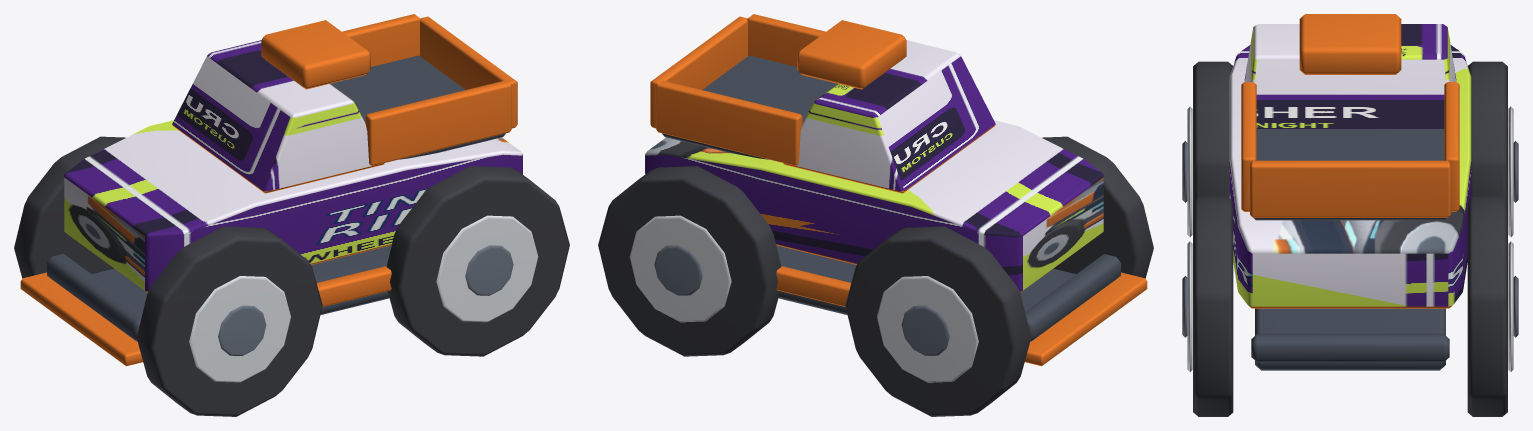
3 views of the same model, side by side, from view 1: azimuth 30°, elevation 25°; view 2: azimuth 150°, elevation 25°; view 3: azimuth 270°, elevation 25° (orthographic). The views are drawn at different scales.
Visible parts, largest first — view 1: BW-01_connected_shell, BW-01_cabin, Tire, Tire.002, cargo side, Rim.002, Rim, Tire.001, custom equipment, cargo floor, custom chin, cargo tail (+6 smaller); view 2: BW-01_connected_shell, BW-01_cabin, Tire.001, Tire.003, cargo side.001, Rim.003, Rim.001, Tire, custom equipment, cargo floor, custom chin, cargo tail (+6 smaller); view 3: BW-01_connected_shell, BW-01_cabin, cargo tail, Tire.002, Tire.003, underbody, cargo floor, custom equipment, rear bumper, Tire, Tire.001, cargo side (+9 smaller).
Part boxes in pixels (x1,y1,x2,y2): BW-01_connected_shell: [64, 120, 522, 292]; BW-01_cabin: [172, 40, 384, 193]; Tire: [136, 226, 322, 416]; Tire.002: [386, 166, 569, 356]; cargo side: [365, 80, 511, 165]; Rim.002: [436, 215, 538, 322]; Rim: [189, 276, 290, 382]; Tire.001: [14, 136, 125, 278]; custom equipment: [261, 20, 370, 89]; cargo floor: [330, 55, 505, 159]; custom chin: [20, 272, 142, 366]; cargo tail: [420, 16, 517, 128]; BW-01_connected_shell: [645, 120, 1103, 292]; BW-01_cabin: [783, 40, 995, 193]; Tire.001: [845, 226, 1031, 416]; Tire.003: [598, 166, 781, 356]; cargo side.001: [656, 80, 802, 165]; Rim.003: [629, 215, 731, 322]; Rim.001: [877, 276, 978, 382]; Tire: [1042, 136, 1153, 278]; custom equipment: [797, 20, 906, 89]; cargo floor: [662, 55, 837, 159]; custom chin: [1025, 272, 1147, 366]; cargo tail: [650, 16, 747, 128]; BW-01_connected_shell: [1229, 45, 1471, 308]; BW-01_cabin: [1244, 24, 1456, 128]; cargo tail: [1250, 160, 1450, 217]; Tire.002: [1193, 196, 1233, 416]; Tire.003: [1467, 196, 1507, 416]; underbody: [1255, 308, 1445, 370]; cargo floor: [1254, 129, 1446, 220]; custom equipment: [1299, 14, 1401, 74]; rear bumper: [1251, 333, 1449, 362]; Tire: [1193, 61, 1232, 200]; Tire.001: [1468, 61, 1507, 200]; cargo side: [1241, 82, 1256, 211].
Bounding box in the file's own units: 358 × 230 × 217.
